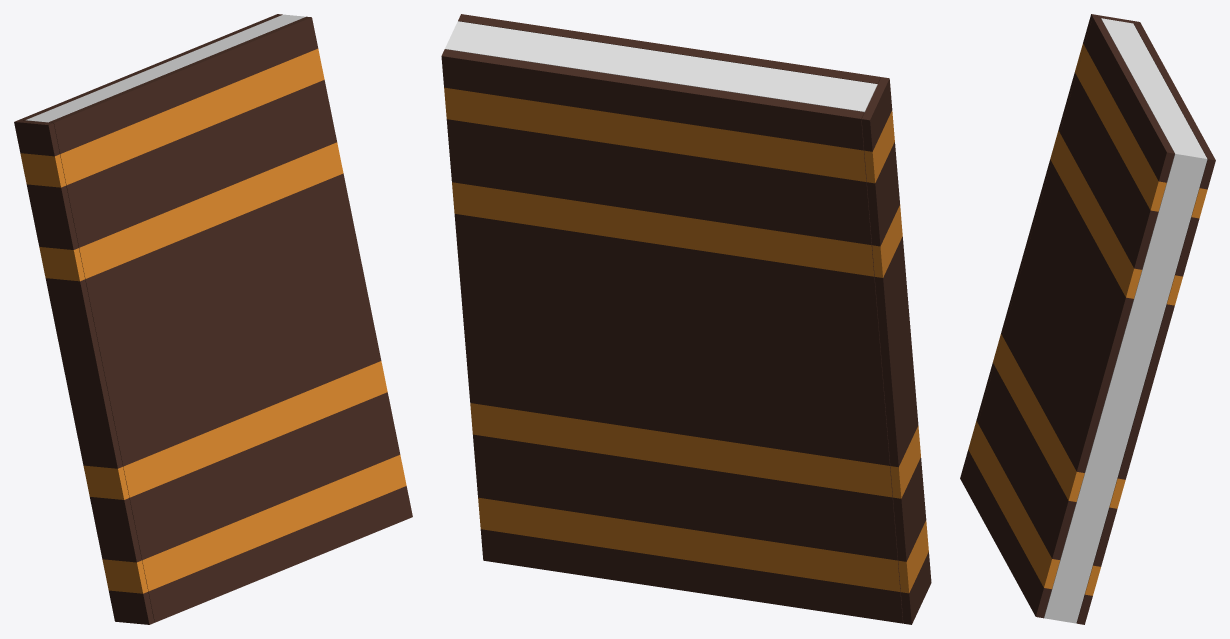
The model's file is Cuaderno.fbx.
The picture shows the model from 3 angles, left to right: view 1: azimuth 30°, elevation 25°; view 2: azimuth 150°, elevation 25°; view 3: azimuth 270°, elevation 25°; orthographic projection. The views are drawn at different scales.
Parts seen in each view (by area): view 1: Cube; view 2: Cube; view 3: Cube.
Boxes of the visible parts, x1=… form: Cube: x1=14, y1=14, x2=412, y2=624; Cube: x1=441, y1=14, x2=931, y2=624; Cube: x1=960, y1=14, x2=1215, y2=624.
Size of the model in its own units: 228 by 301 by 150.
